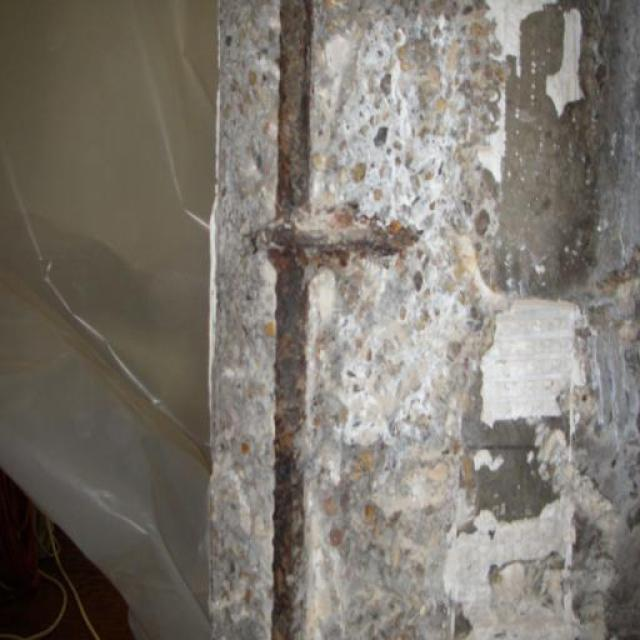D0w0: (210, 0, 505, 638)
